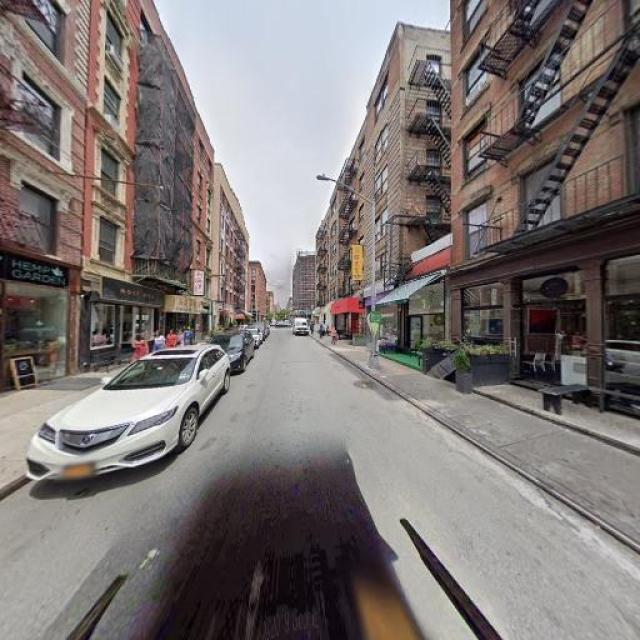Building: (452, 1, 640, 409), (1, 1, 78, 390)
